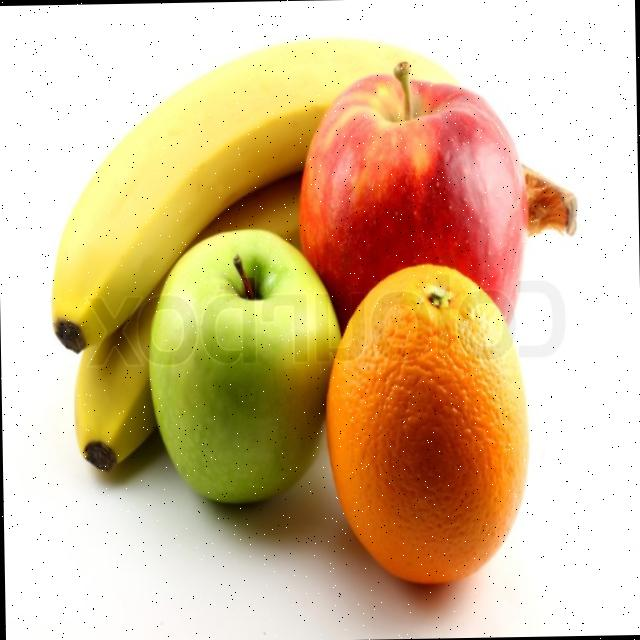Apel: (294, 58, 532, 336), (146, 226, 345, 507)
Jeruk: (322, 259, 532, 586)
Pisang: (47, 31, 580, 472), (69, 171, 309, 472)
